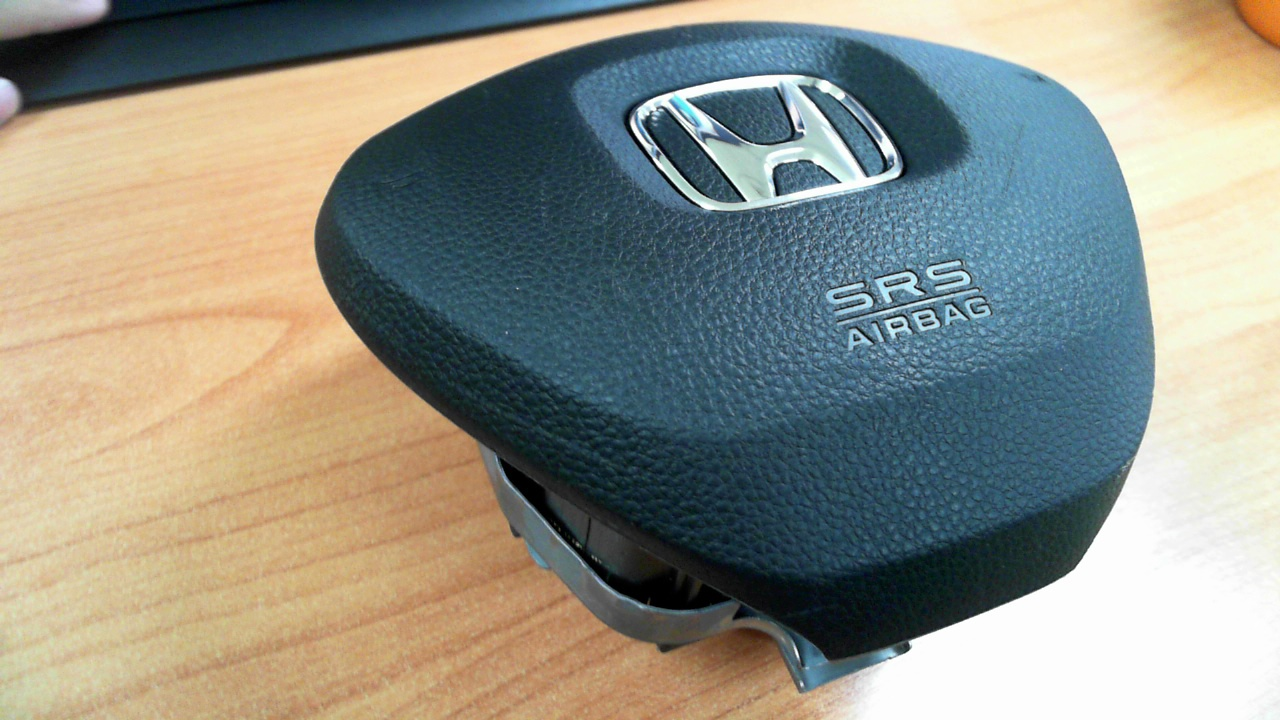Airbag: (314, 20, 1158, 694)
Honda: (628, 73, 904, 211)
